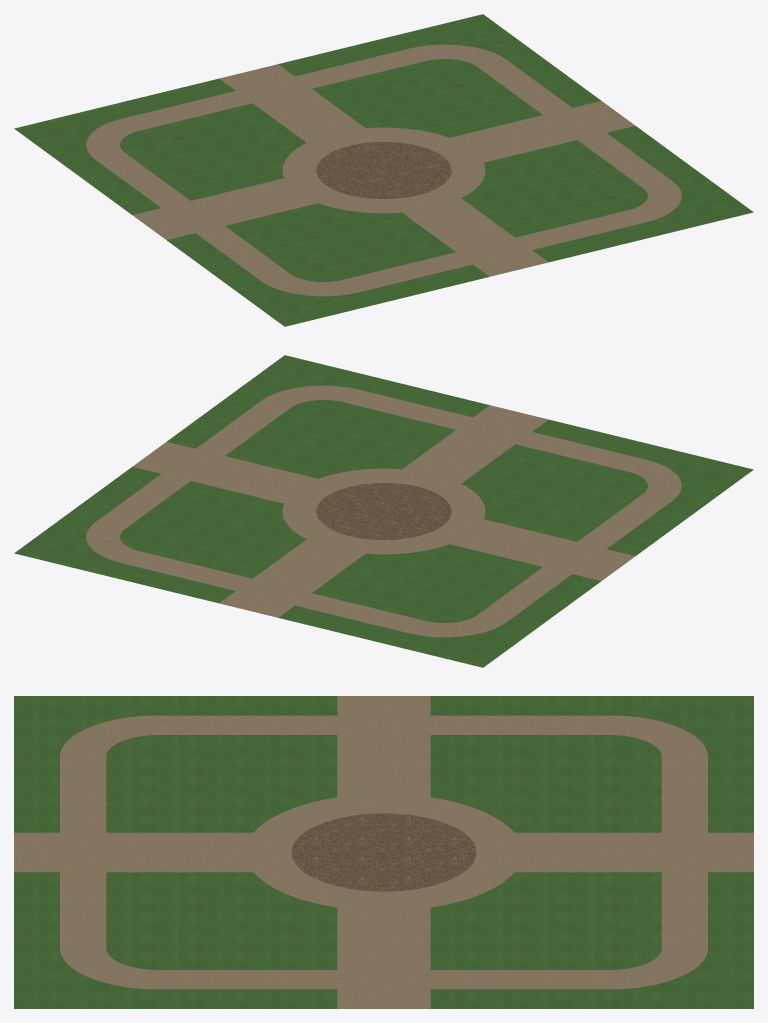
3 views of the same model, one above another, from view 1: azimuth 30°, elevation 25°; view 2: azimuth 150°, elevation 25°; view 3: azimuth 270°, elevation 25° (orthographic). The views are drawn at different scales.
Visible parts, largest first — view 1: ParkGrass_2; view 2: ParkGrass_2; view 3: ParkGrass_2.
Boxes of the visible parts, x1,y1,x2,y2 form: ParkGrass_2: [14, 14, 753, 326]; ParkGrass_2: [14, 355, 753, 667]; ParkGrass_2: [14, 696, 753, 1008].
Bounding box in the file's own units: 55 × 0 × 55.
3 materials, 3 textured.
